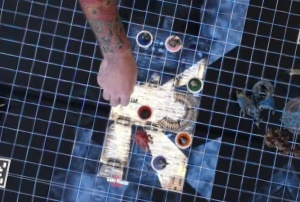blue: (133, 27, 154, 50)
green: (185, 74, 203, 93)
orange: (172, 128, 194, 149)
pink: (161, 30, 184, 55)
red: (134, 102, 153, 121)
violet: (148, 151, 170, 174)
